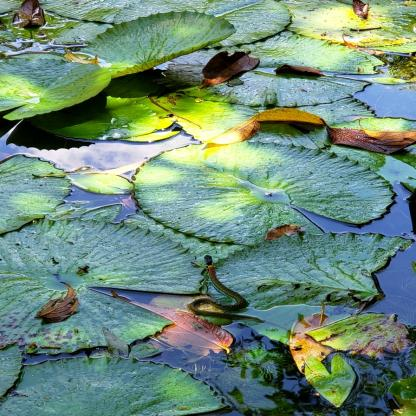Snake: (188, 254, 251, 322)
